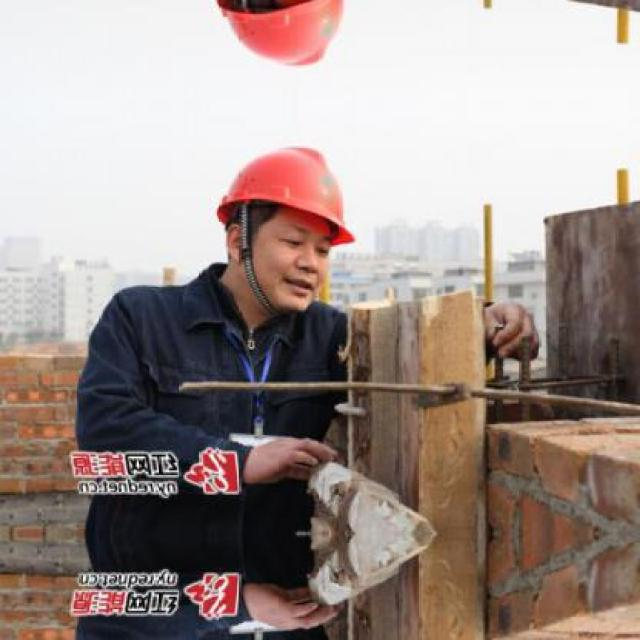safetyhelmet: (217, 145, 355, 268)
